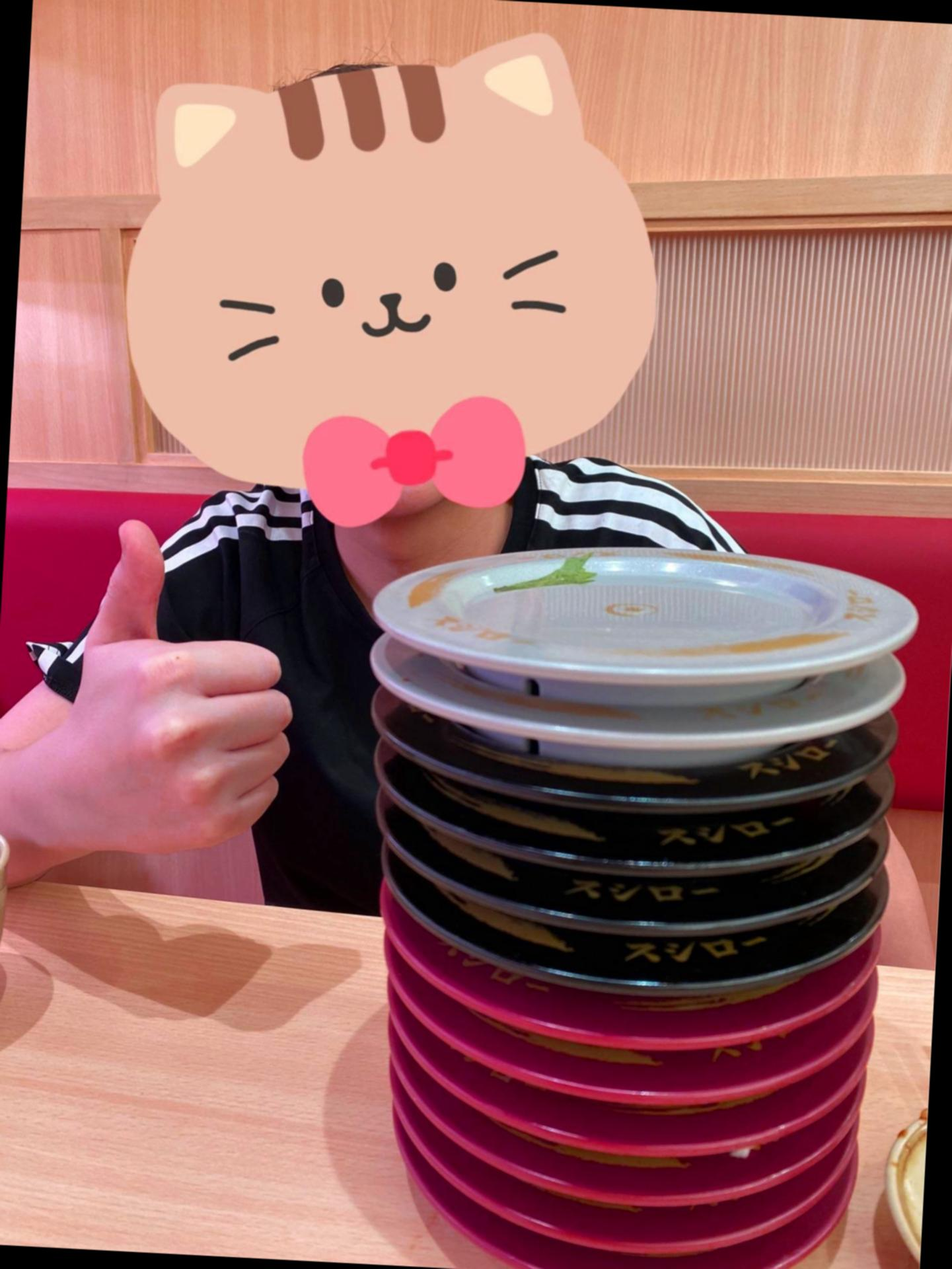Janback: (431, 793, 901, 884), (452, 860, 881, 942), (421, 748, 913, 818), (486, 926, 820, 986)
Janred: (457, 1036, 863, 1115), (433, 985, 862, 1048), (482, 1100, 842, 1166), (491, 1157, 848, 1220), (498, 1209, 835, 1257), (489, 1239, 827, 1269)
Janwhite: (379, 532, 920, 687), (399, 661, 876, 745)
